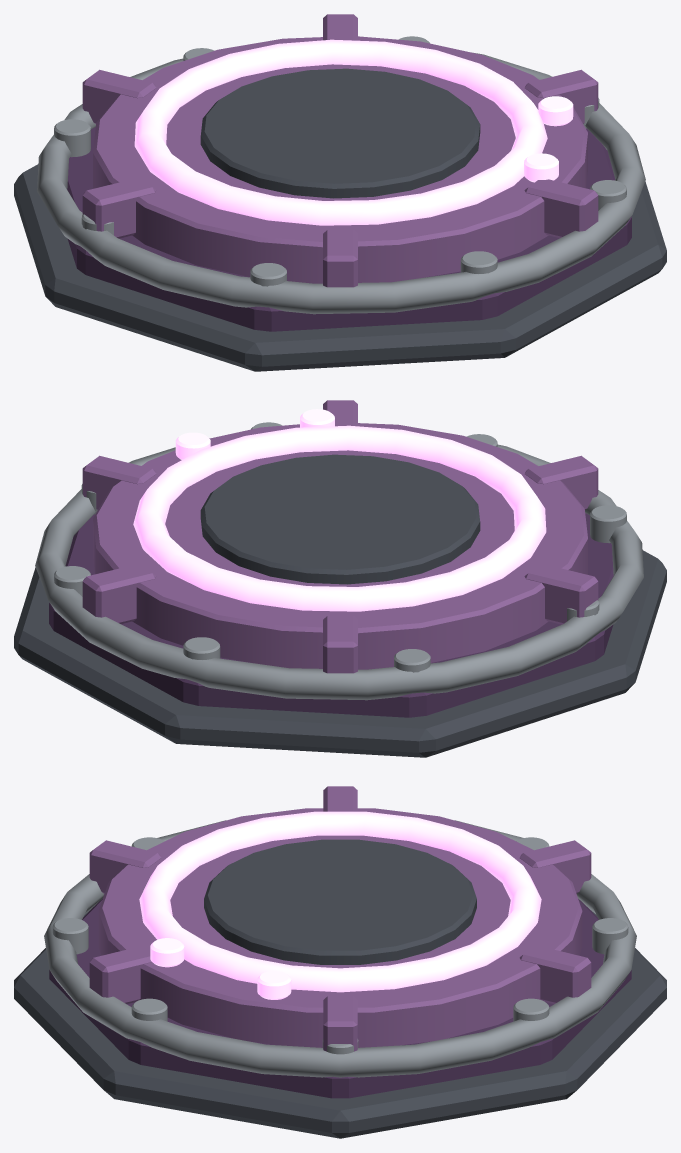
The model's file is void_base_l2.glb.
3 views of the same model, one above another, from view 1: azimuth 30°, elevation 25°; view 2: azimuth 150°, elevation 25°; view 3: azimuth 270°, elevation 25° (orthographic). The views are drawn at different scales.
Parts seen in each view (by area): view 1: Cylinder.002, Cylinder, Cylinder.003, Torus.001, Torus, Cylinder.001, Cube.005, Cube.003, Cube.002, Cube.004, Cube, Cylinder.007 (+6 smaller); view 2: Cylinder.002, Cylinder, Cylinder.003, Torus.001, Torus, Cylinder.001, Cube.001, Cube.003, Cube.004, Cube.002, Cube, Cylinder.009 (+6 smaller); view 3: Cylinder.002, Cylinder, Cylinder.003, Torus, Torus.001, Cylinder.001, Cube.001, Cube.005, Cube.002, Cube.004, Cube, Cylinder.006 (+6 smaller).
Part boxes in pixels (x1,y1,x2,y2): Cylinder.002: [93, 36, 587, 283]; Cylinder: [14, 164, 666, 371]; Cylinder.003: [200, 68, 480, 198]; Torus.001: [134, 39, 547, 225]; Torus: [37, 52, 645, 314]; Cylinder.001: [67, 127, 631, 331]; Cube.005: [524, 179, 598, 237]; Cube.003: [82, 177, 156, 238]; Cube.002: [82, 69, 156, 123]; Cube.004: [323, 229, 357, 287]; Cube: [524, 69, 598, 123]; Cylinder.007: [54, 119, 90, 157]; Cylinder.002: [93, 423, 587, 669]; Cylinder: [14, 550, 666, 757]; Cylinder.003: [200, 454, 480, 584]; Torus.001: [133, 425, 546, 611]; Torus: [35, 444, 643, 700]; Cylinder.001: [49, 513, 613, 717]; Cube.001: [82, 563, 156, 623]; Cube.003: [524, 563, 598, 624]; Cube.004: [524, 455, 598, 509]; Cube.002: [323, 615, 357, 673]; Cube: [82, 455, 156, 509]; Cylinder.009: [590, 505, 626, 543]; Cylinder.002: [98, 808, 582, 1047]; Cylinder: [14, 910, 666, 1138]; Cylinder.003: [204, 839, 476, 964]; Torus: [44, 820, 636, 1077]; Torus.001: [139, 811, 541, 992]; Cylinder.001: [49, 898, 631, 1098]; Cube.001: [519, 945, 591, 1004]; Cube.005: [89, 945, 151, 1004]; Cube.002: [519, 840, 591, 893]; Cube.004: [89, 840, 161, 893]; Cube: [323, 996, 357, 1051]; Cylinder.006: [592, 918, 628, 954].
Size of the model in its own units: 2.11 by 0.4 by 2.11.
